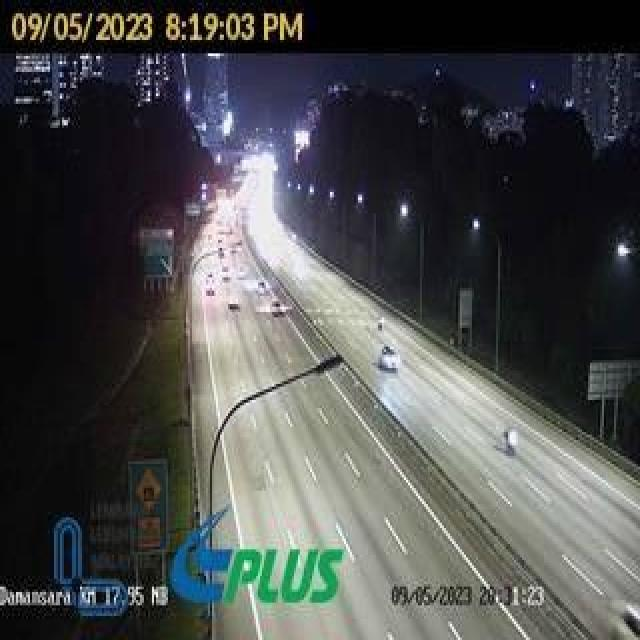Car: (381, 345, 400, 372), (270, 300, 282, 315), (228, 297, 240, 310), (257, 280, 266, 293), (205, 286, 215, 296)
